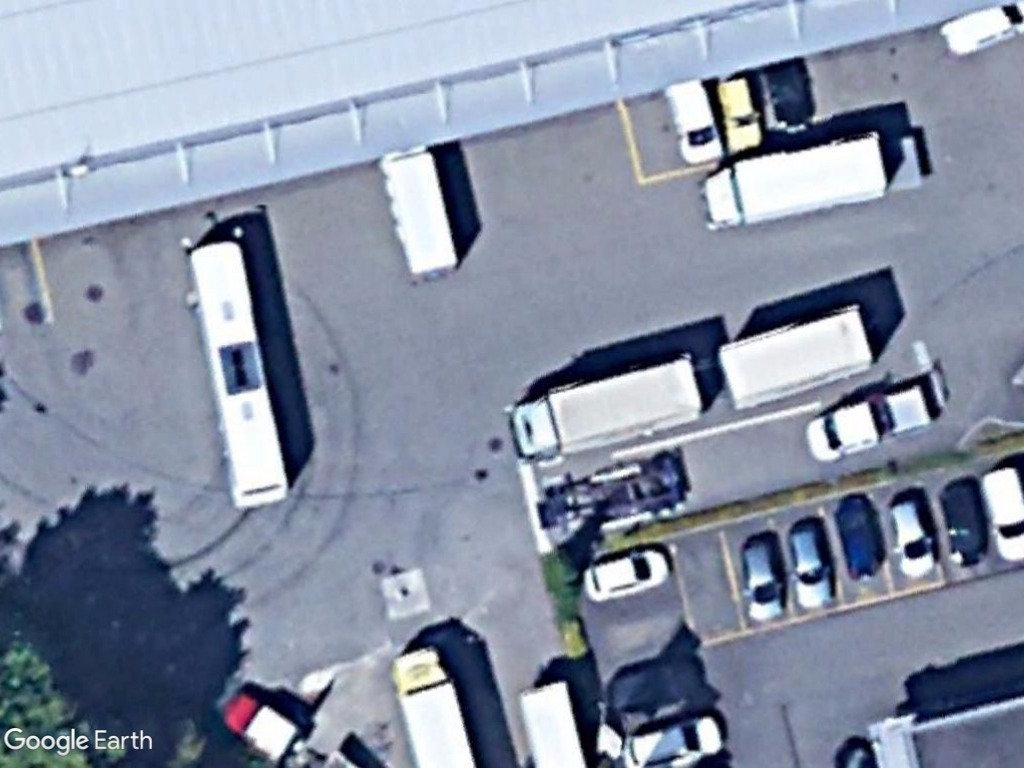bus: (184, 235, 298, 515)
car: (582, 546, 669, 605), (786, 521, 836, 616), (736, 535, 789, 622)
longvehicle: (713, 304, 880, 412)
truck: (503, 351, 709, 462), (701, 129, 892, 231)
van: (663, 77, 724, 164), (887, 493, 940, 584), (712, 70, 764, 154)
